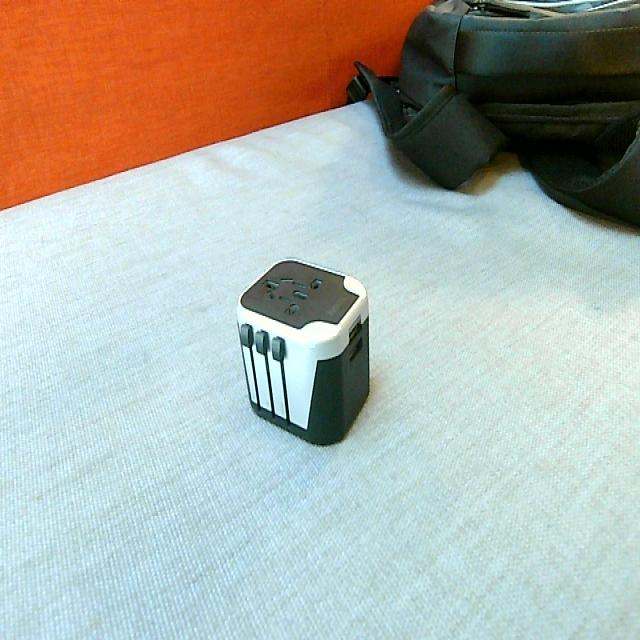adapter: (235, 258, 370, 446)
